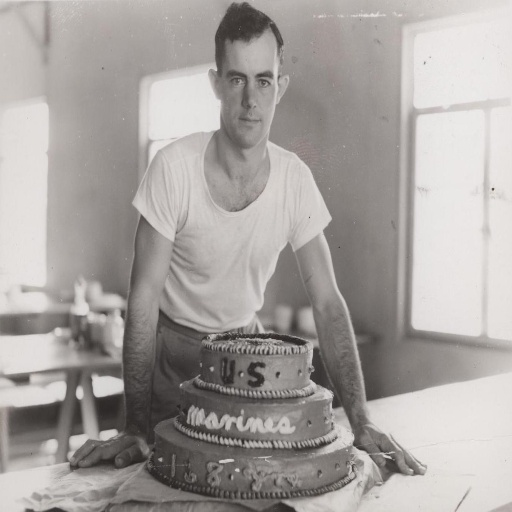hand: (351, 418, 427, 473), (68, 428, 151, 469)
